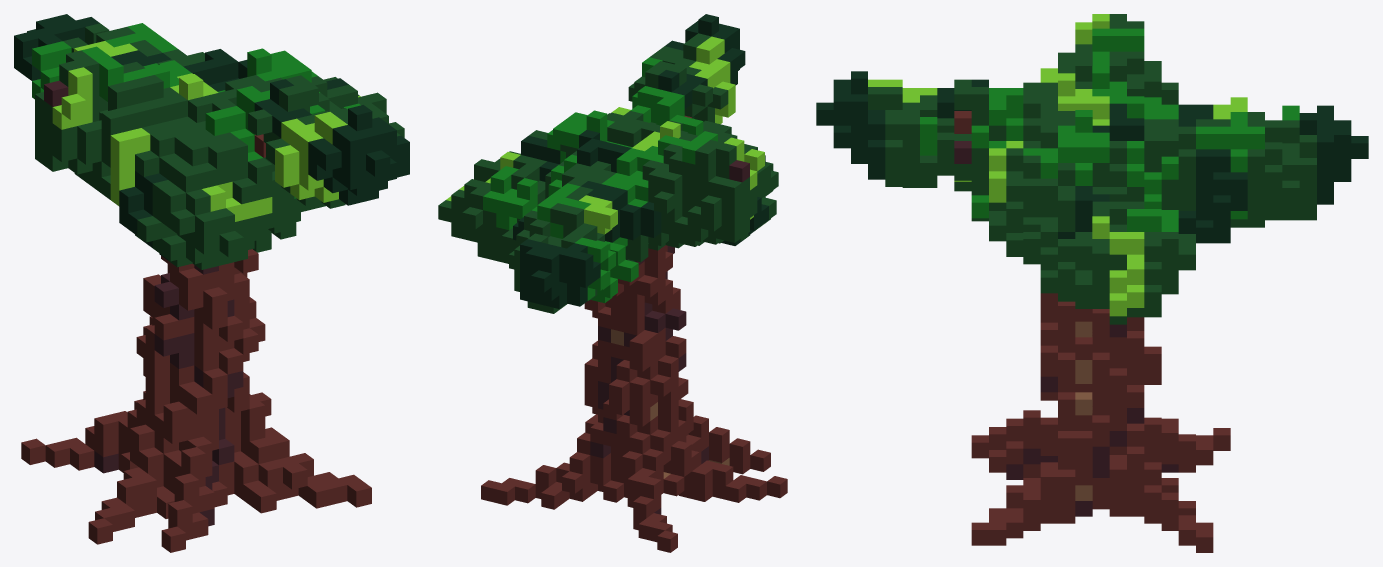
The model's file is tree.obj.
The picture shows the model from 3 angles, left to right: view 1: azimuth 30°, elevation 25°; view 2: azimuth 150°, elevation 25°; view 3: azimuth 270°, elevation 25°; orthographic projection. The views are drawn at different scales.
Visible parts, largest first — view 1: unnamed_mesh1; view 2: unnamed_mesh1; view 3: unnamed_mesh1.
Part boxes in pixels (<box>): unnamed_mesh1: <box>14,14,409,552</box>; unnamed_mesh1: <box>438,14,787,552</box>; unnamed_mesh1: <box>816,14,1368,552</box>.
Bounding box in the file's own units: 22 × 28 × 32.
